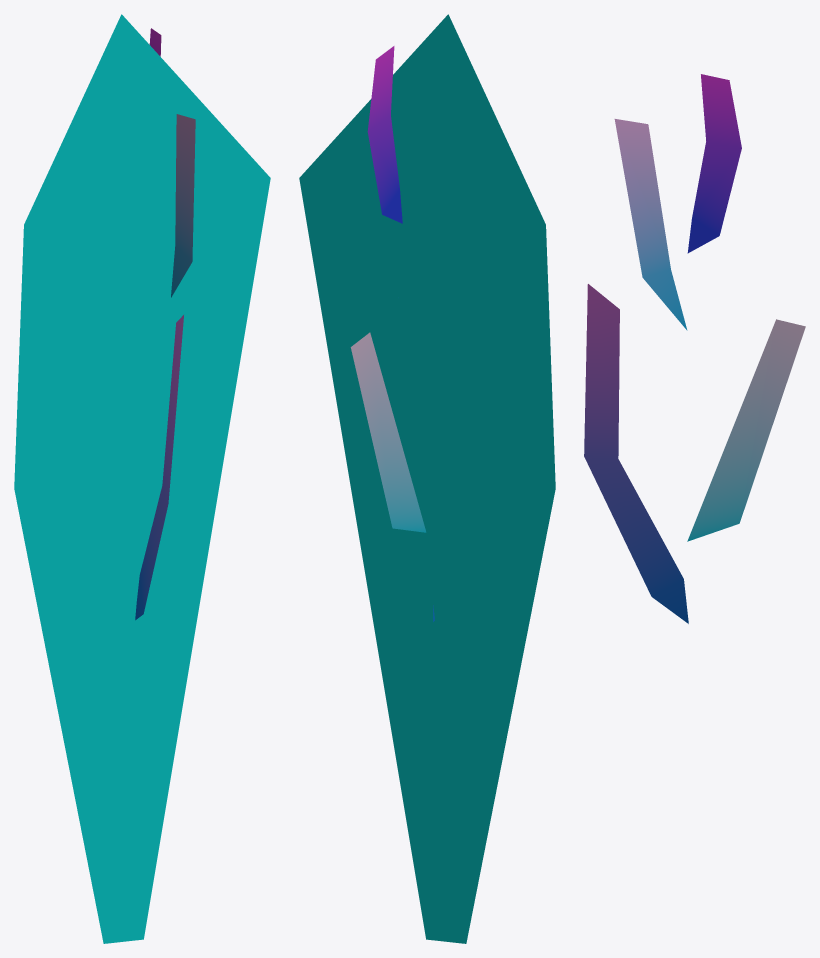
Rendered from Nordic_Coastal_Groundcover_vlqkdeaja_Mid_vlqkdeaja_VarD_LOD2.fbx.
The picture shows the model from 3 angles, left to right: view 1: azimuth 30°, elevation 25°; view 2: azimuth 150°, elevation 25°; view 3: azimuth 270°, elevation 25°; orthographic projection.
Parts seen in each view (by area): view 1: _ibyc_VarD_LOD4; view 2: _ibyc_VarD_LOD4; view 3: _ibyc_VarD_LOD4.
Part boxes in pixels (x1=…): _ibyc_VarD_LOD4: x1=14, y1=14, x2=270, y2=943; _ibyc_VarD_LOD4: x1=299, y1=14, x2=555, y2=943; _ibyc_VarD_LOD4: x1=584, y1=74, x2=805, y2=623.
Size of the model in its own units: 13.91 by 48.25 by 10.55.
